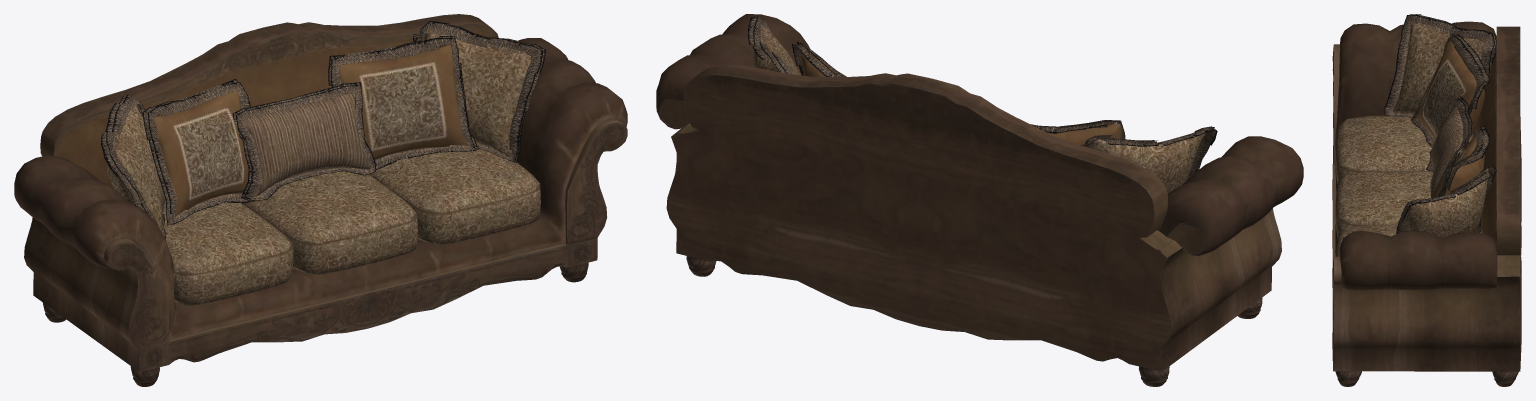
3 views of the same model, side by side, from view 1: azimuth 30°, elevation 25°; view 2: azimuth 150°, elevation 25°; view 3: azimuth 270°, elevation 25° (orthographic). The views are drawn at different scales.
Visible parts, largest first — view 1: sofa_03; view 2: sofa_03; view 3: sofa_03.
Part boxes in pixels (x1=…): sofa_03: x1=14, y1=14, x2=627, y2=386; sofa_03: x1=656, y1=14, x2=1303, y2=386; sofa_03: x1=1332, y1=14, x2=1521, y2=386.
Size of the model in its own units: 2.73 by 1.12 by 0.9251.
2 materials, 2 textured.
